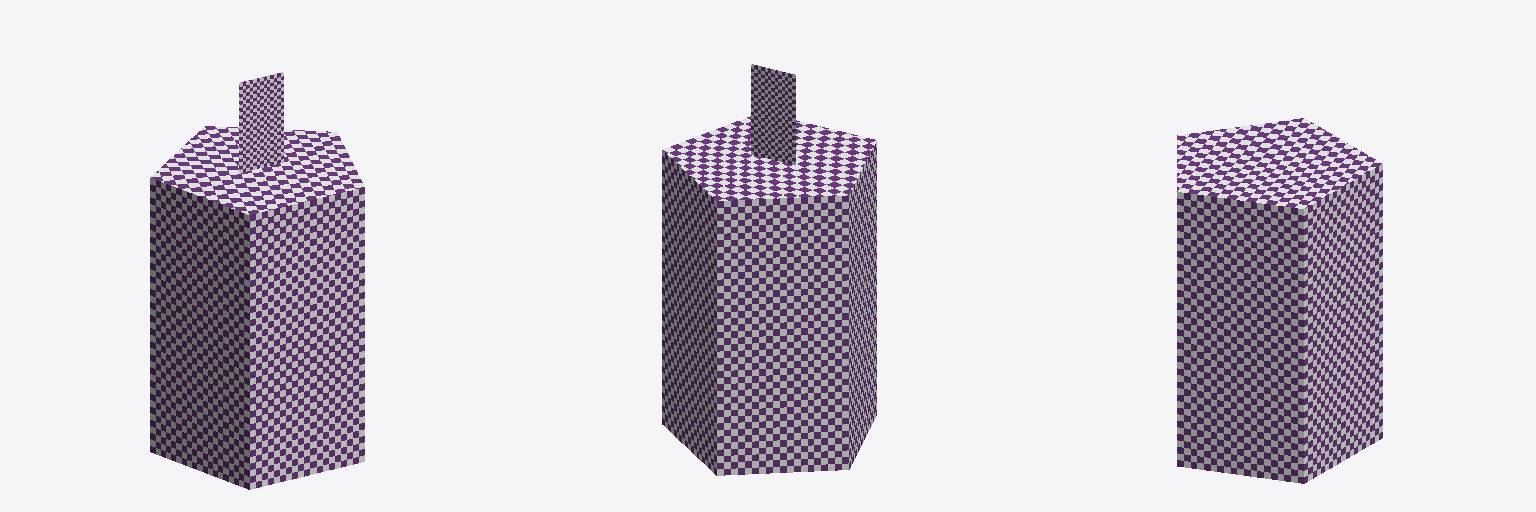
3 views of the same model, side by side, from view 1: azimuth 30°, elevation 25°; view 2: azimuth 150°, elevation 25°; view 3: azimuth 270°, elevation 25° (orthographic).
Parts seen in each view (by area): view 1: Cylinder; view 2: Cylinder; view 3: Cylinder.
Boxes of the visible parts, x1=… form: Cylinder: x1=150, y1=72, x2=364, y2=489; Cylinder: x1=662, y1=64, x2=876, y2=475; Cylinder: x1=1177, y1=118, x2=1382, y2=483.
Bounding box in the file's own units: 0.0713 × 0.1327 × 0.0678.
Materials: 1 (1 with a texture image).